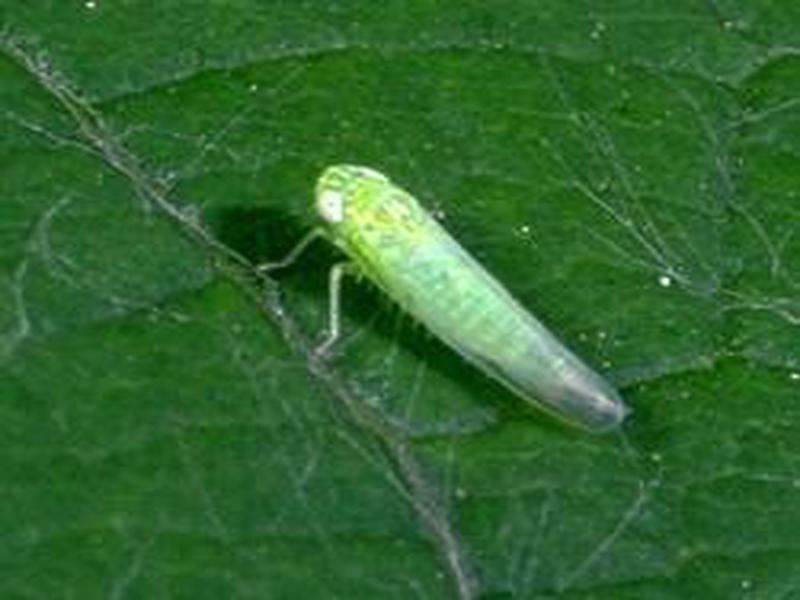White_backed_plant_hopper: (299, 151, 646, 454)
